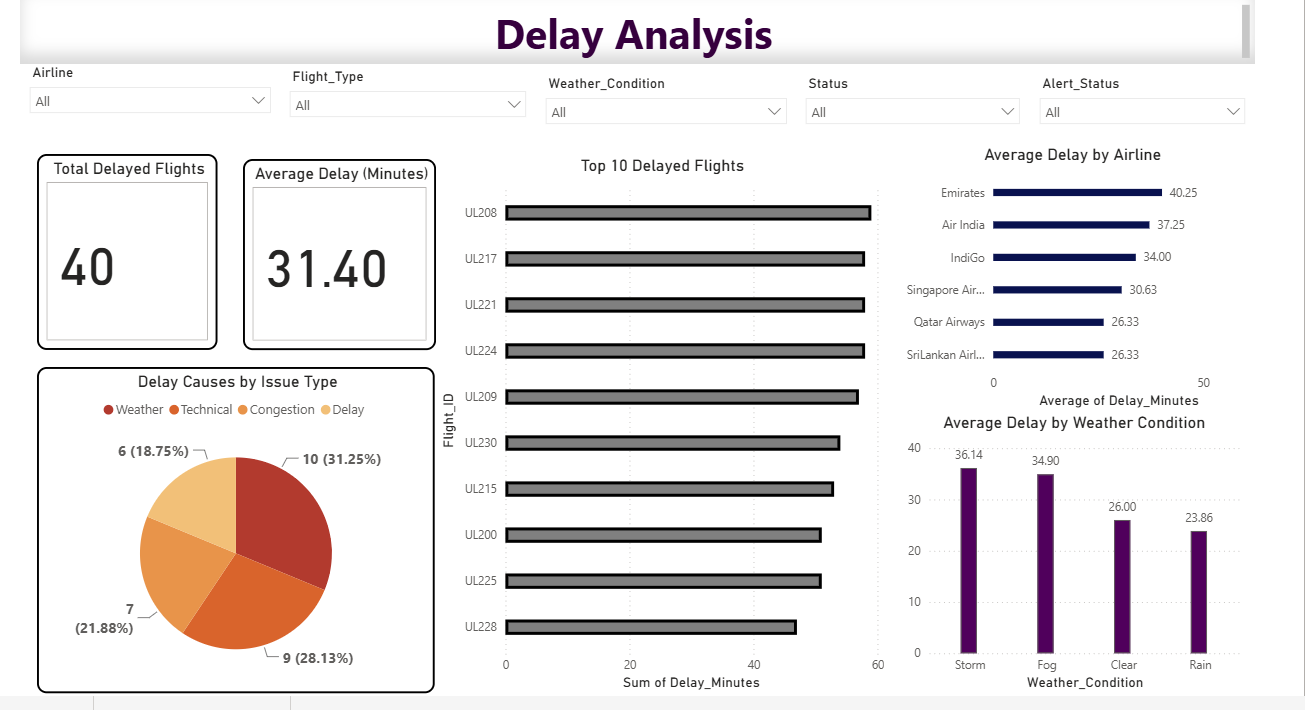

This screenshot's page, from the dashboard's own definition file:
{"tool":"powerbi","page":{"name":"Delay Analysis","canvas":[1280,720],"ordinal":1},"visuals":[{"type":"cardVisual","title":"Average Delay (Minutes)","fields":{"Data":["BIA_CMB_Dataset.Average Delay"]},"box":[230.6,164.5,200,198.4],"z":0},{"type":"cardVisual","title":"Total Delayed Flights","fields":{"Data":["BIA_CMB_Dataset.Total Delayed Flights"]},"box":[17.7,159.7,187.1,203.2],"z":1000},{"type":"clusteredBarChart","title":"Top 10 Delayed Flights","fields":{"Category":["BIA_CMB_Dataset.Flight_ID"],"Y":["Sum(BIA_CMB_Dataset.Delay_Minutes)"]},"box":[430.6,161.3,469.4,558.1],"z":2000},{"type":"clusteredBarChart","title":"Average Delay by Airline","fields":{"Category":["BIA_CMB_Dataset.Airline"],"Y":["Avg(BIA_CMB_Dataset.Delay_Minutes)"]},"box":[900,150,380.6,277.4],"z":3000},{"type":"pieChart","title":"Delay Causes by Issue Type","fields":{"Category":["BIA_CMB_Dataset.Issue_Type"],"Y":["CountNonNull(BIA_CMB_Dataset.Issue_Type)"]},"box":[18,380.5,412.1,338.4],"z":4000},{"type":"clusteredColumnChart","title":"Average Delay by Weather Condition","fields":{"Category":["BIA_CMB_Dataset.Weather_Condition"],"Y":["Avg(BIA_CMB_Dataset.Delay_Minutes)"]},"box":[914.5,427.4,354.8,291.9],"z":5000},{"type":"slicer","fields":{"Values":["BIA_CMB_Dataset.Airline"]},"box":[0,62.3,269.6,69.6],"z":6000},{"type":"slicer","fields":{"Values":["BIA_CMB_Dataset.Flight_Type"]},"box":[269.6,66.7,265.2,65.2],"z":7000},{"type":"slicer","fields":{"Values":["BIA_CMB_Dataset.Weather_Condition"]},"box":[534.8,73.9,269.6,58],"z":8000},{"type":"slicer","fields":{"Values":["BIA_CMB_Dataset.Status"]},"box":[804.3,73.9,242,68.1],"z":9000},{"type":"slicer","fields":{"Values":["BIA_CMB_Dataset.Alert_Status"]},"box":[1046.4,73.9,233.3,75.4],"z":10000},{"type":"textbox","box":[0,0,1279,66.1],"z":11000}]}

Visuals, with their boxes on the page's 1280x720 design canvas (x1, y1, x2, y2). These are canvas units, not pixel positions in the 1305x710 screenshot, which may show the page scaled, cropped or inside an application window:
"Average Delay (Minutes)" cardVisual: (x1=231, y1=164, x2=431, y2=363)
"Total Delayed Flights" cardVisual: (x1=18, y1=160, x2=205, y2=363)
"Top 10 Delayed Flights" clusteredBarChart: (x1=431, y1=161, x2=900, y2=719)
"Average Delay by Airline" clusteredBarChart: (x1=900, y1=150, x2=1281, y2=427)
"Delay Causes by Issue Type" pieChart: (x1=18, y1=380, x2=430, y2=719)
"Average Delay by Weather Condition" clusteredColumnChart: (x1=914, y1=427, x2=1269, y2=719)
slicer - BIA_CMB_Dataset.Airline: (x1=0, y1=62, x2=270, y2=132)
slicer - BIA_CMB_Dataset.Flight_Type: (x1=270, y1=67, x2=535, y2=132)
slicer - BIA_CMB_Dataset.Weather_Condition: (x1=535, y1=74, x2=804, y2=132)
slicer - BIA_CMB_Dataset.Status: (x1=804, y1=74, x2=1046, y2=142)
slicer - BIA_CMB_Dataset.Alert_Status: (x1=1046, y1=74, x2=1280, y2=149)
textbox: (x1=0, y1=0, x2=1279, y2=66)
